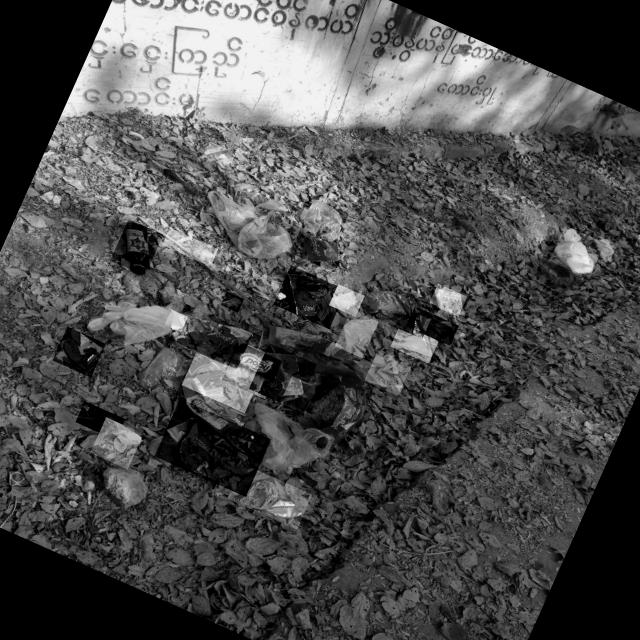Crisp packet: (181, 372, 248, 438), (184, 359, 245, 413)
Other plastic: (166, 418, 267, 483), (228, 471, 303, 519), (172, 314, 252, 359), (226, 345, 282, 396), (361, 290, 433, 320), (287, 274, 336, 317), (92, 422, 141, 462), (263, 353, 303, 397), (55, 333, 103, 369), (392, 316, 432, 358), (167, 229, 214, 263), (287, 235, 340, 262), (281, 384, 315, 413), (410, 320, 454, 337), (435, 290, 462, 309), (591, 239, 614, 258), (205, 150, 234, 164), (192, 301, 211, 320), (10, 472, 30, 488), (172, 310, 185, 330), (222, 298, 242, 309)
Other plastic wrapper: (125, 224, 149, 274)
Plastic film: (269, 326, 369, 452), (207, 183, 292, 259), (255, 403, 335, 471), (87, 302, 175, 347), (138, 348, 195, 390), (553, 230, 593, 275), (300, 201, 342, 243), (123, 269, 174, 303), (82, 402, 120, 437), (365, 359, 402, 392), (343, 319, 377, 354)
Unlabeled litter: (332, 291, 360, 311)
